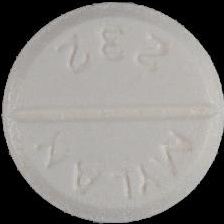0378-0232: (0, 0, 224, 224)
